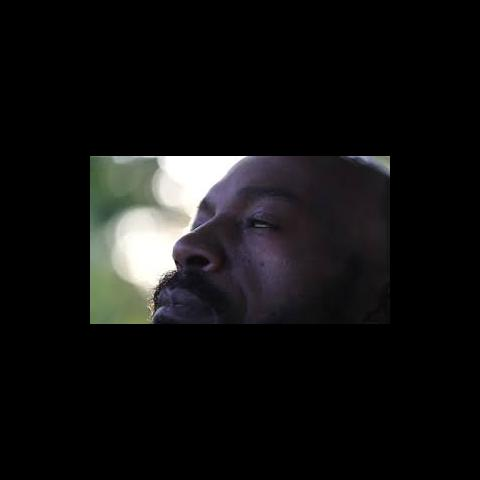opened: (239, 190, 292, 244)
